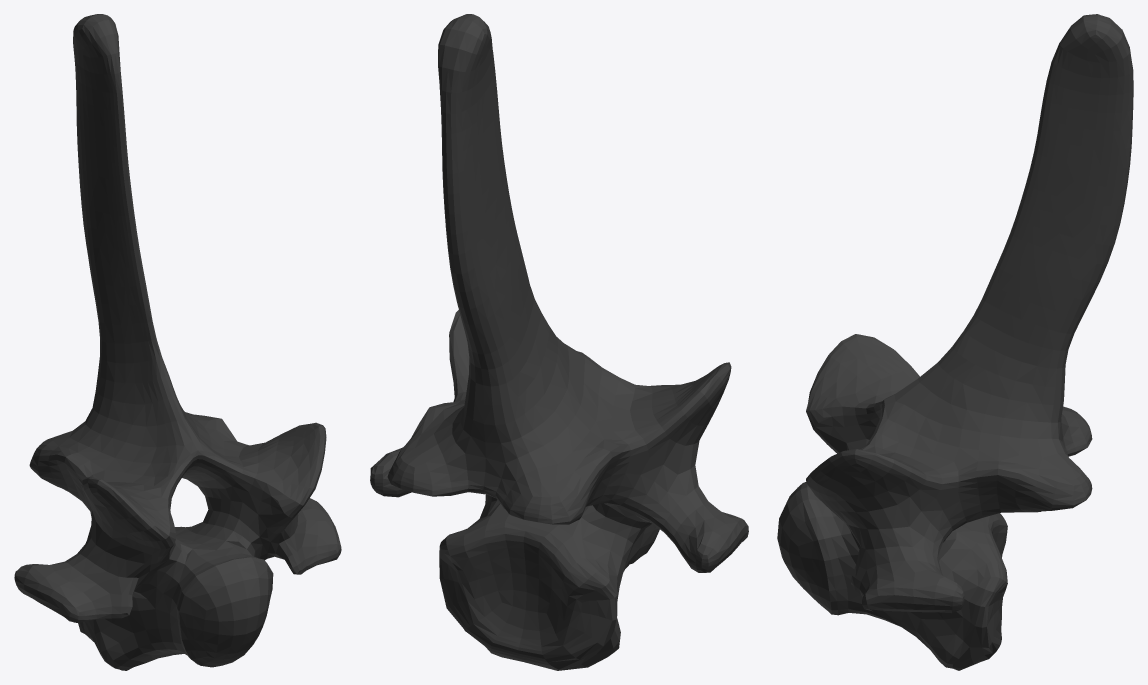
3 views of the same model, side by side, from view 1: azimuth 30°, elevation 25°; view 2: azimuth 150°, elevation 25°; view 3: azimuth 270°, elevation 25° (orthographic). The views are drawn at different scales.
Visible parts, largest first — view 1: b_C7_LO; view 2: b_C7_LO; view 3: b_C7_LO.
Boxes of the visible parts, <box> form: b_C7_LO: <box>14,14,341,670</box>; b_C7_LO: <box>370,14,748,670</box>; b_C7_LO: <box>777,14,1133,670</box>.
Size of the model in its own units: 0.00109 by 0.00207 by 0.00105.
1 material, 1 textured.
